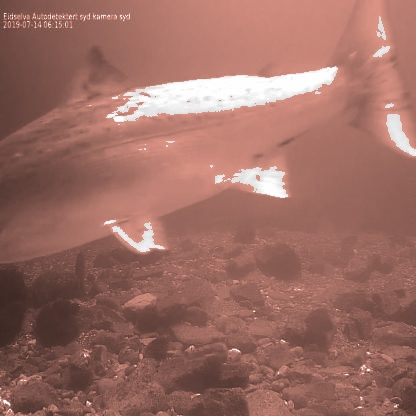salmon: (0, 0, 416, 268)
